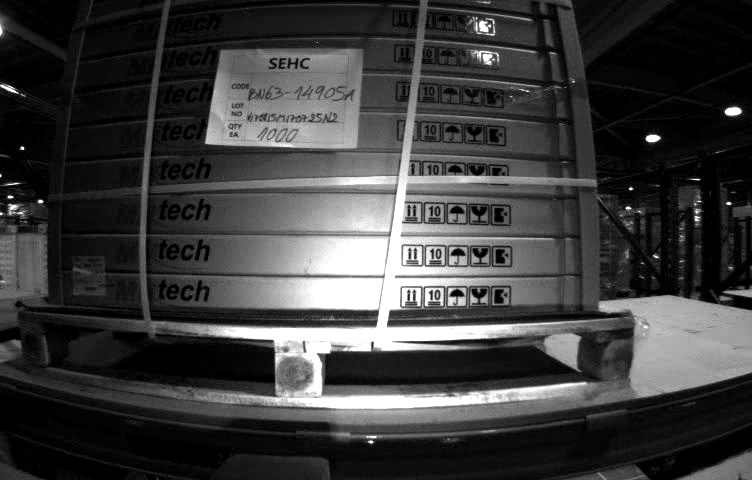True Barcode: (71, 256, 104, 296)
